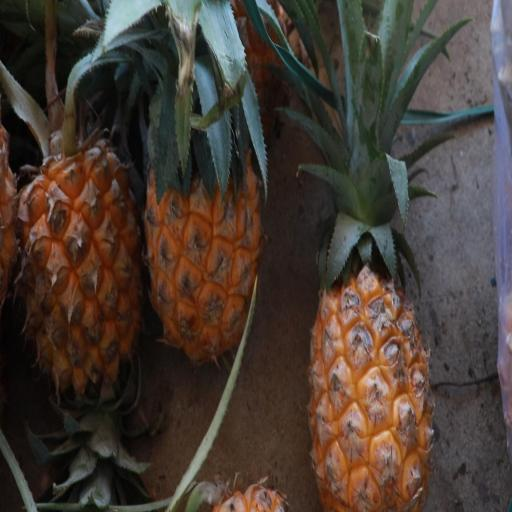Pineapple - v8 v1: (304, 139, 438, 512), (19, 76, 145, 411), (140, 47, 266, 371)
